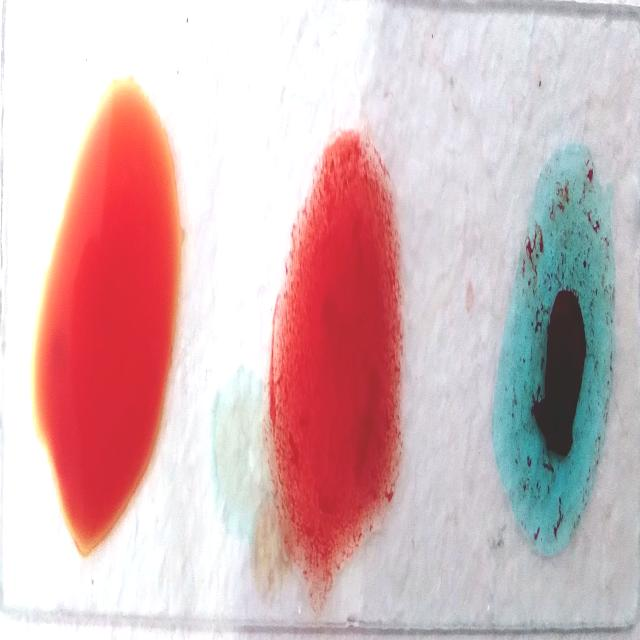A: (490, 160, 615, 562)
D: (279, 146, 402, 584)
